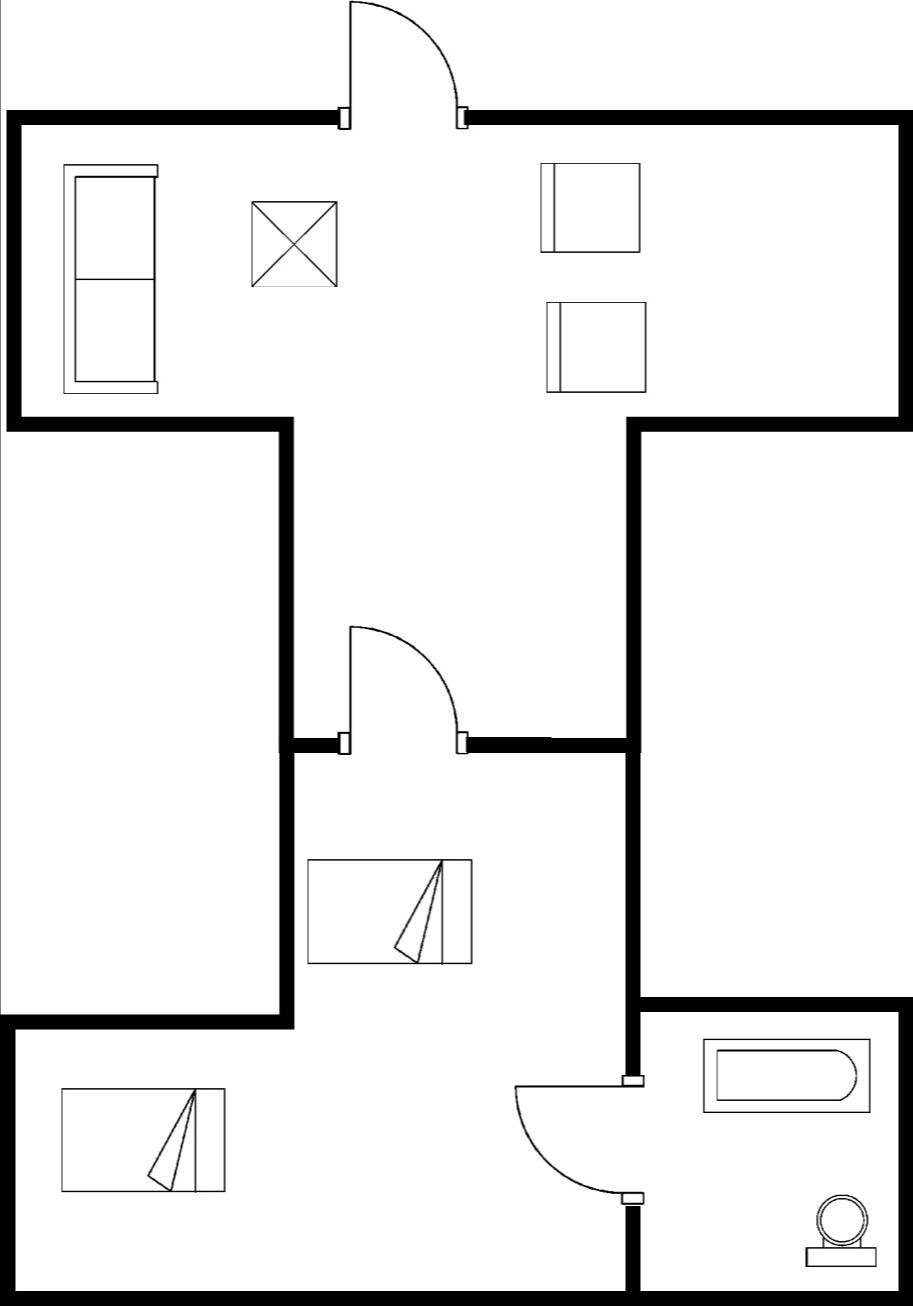bed: (50, 1076, 233, 1203), (299, 852, 481, 974)
sofa: (51, 154, 169, 399)
toilet: (799, 1184, 889, 1276)
tub: (695, 1026, 877, 1126)
